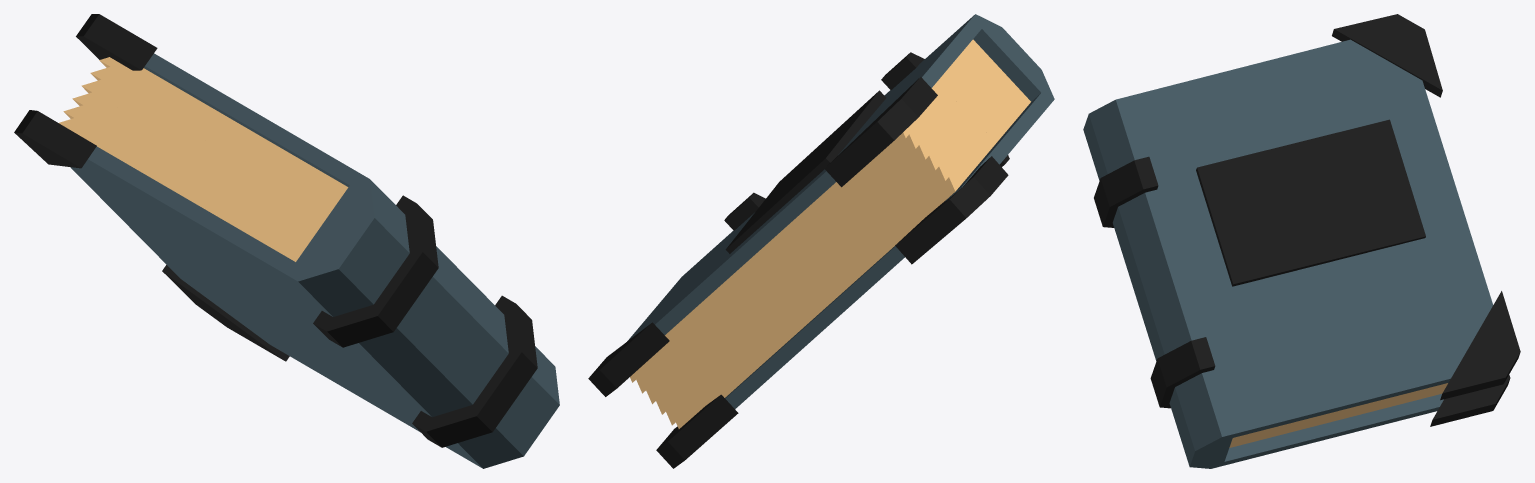
3 views of the same model, side by side, from view 1: azimuth 30°, elevation 25°; view 2: azimuth 150°, elevation 25°; view 3: azimuth 270°, elevation 25° (orthographic). The views are drawn at different scales.
Visible parts, largest first — view 1: group_449164403; view 2: group_449164403; view 3: group_449164403.
Boxes of the visible parts, left/top/right/bottom form: group_449164403: left=14, top=14, right=559, bottom=468; group_449164403: left=588, top=14, right=1054, bottom=468; group_449164403: left=1083, top=14, right=1520, bottom=468.
Size of the model in its own units: 31.73 by 30.44 by 34.49.
